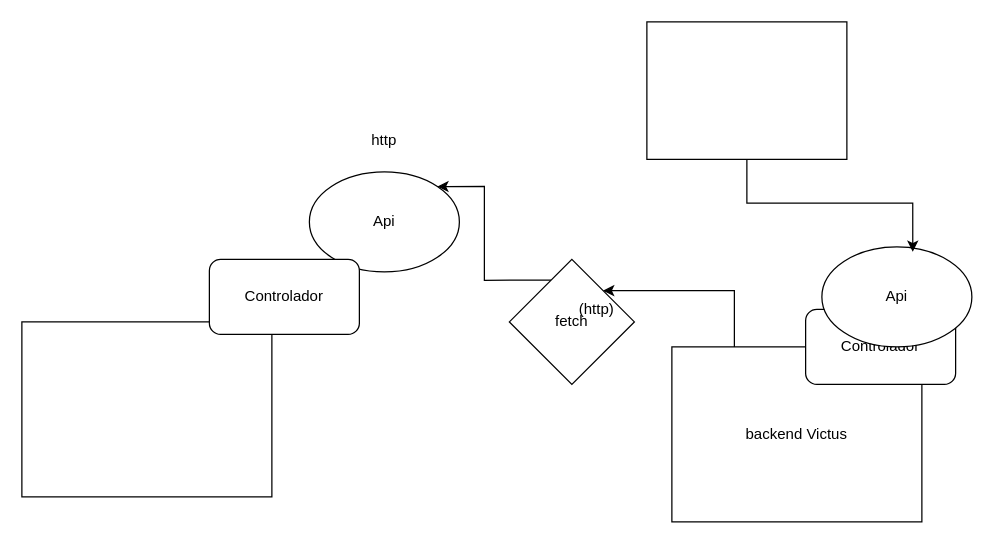
The diagram is 994 pixels wide and 544 high, and some of its shapes have lost their labels. The shapes that lost their labels are listed below. From the top down, each one's centre as x and y in pixels, then its label:
[746,90]: fronend victus
[146,409]: aplicacion pagos PSE
